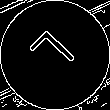L_SE: (26, 27, 84, 83)
